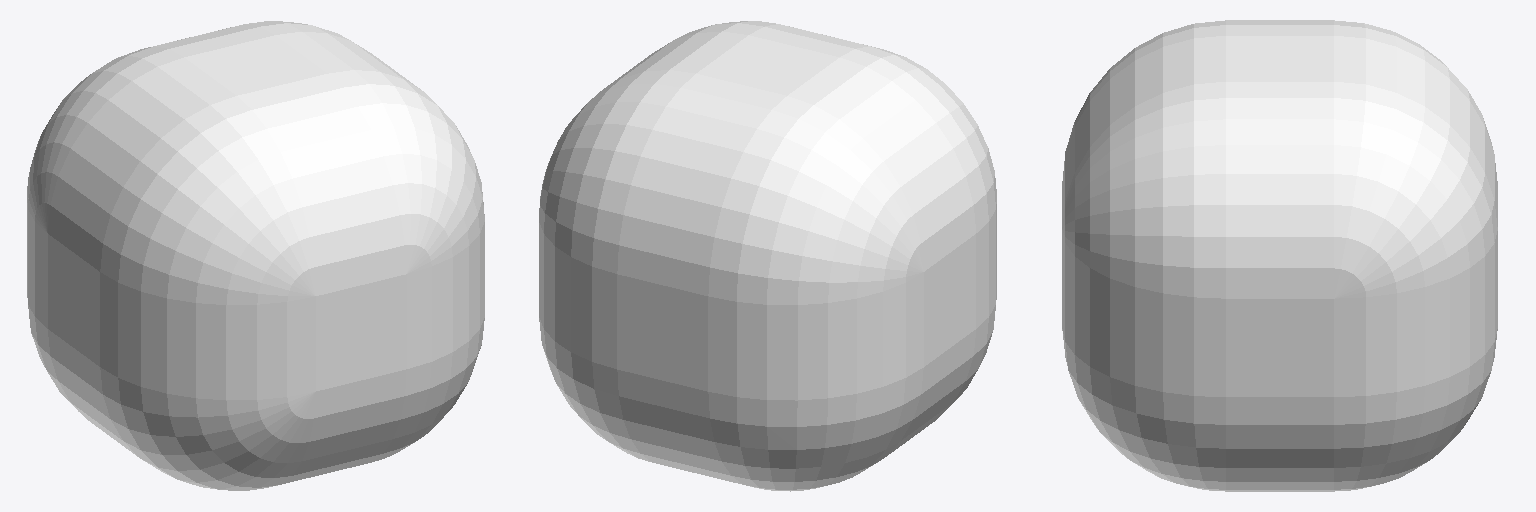
URDF robot description (urdf_robot):
<?xml version="1.0"?>
<robot name="urdf_robot">
  <link name="base_link">
    <contact>
      <rolling_friction value="0.01" />
      <spinning_friction value="0.01" />
      <lateral_friction value="10000" />
      <restitution value="0.1" />
      <damping value="100" />
      <stiffness value="5000" />
    </contact>
    <inertial>
      <origin rpy="0 0 0" xyz="0 0 0" />
      <mass value=".1" />
      <inertia ixx="1" ixy="0" ixz="0" iyy="1" iyz="0" izz="1" />
    </inertial>
    <visual>
      <origin rpy="0 0 0" xyz="0 0 0" />
      <geometry>
        <mesh filename="rounded_cube.obj" scale="1 1 1" />
        <!-- <mesh filename="textured_sphere_smooth.obj" scale="0.03 0.03 1"/>       -->
      </geometry>
      <material name="white">
        <color rgba="1 1 1 1" />
      </material>
    </visual>
  </link>
</robot>

--- What the picture shows (computed from the rendered views, not written in the file) ---
Views: 3 orthographic renders of the robot side by side, from view 1: azimuth 30°, elevation 25°; view 2: azimuth 150°, elevation 25°; view 3: azimuth 270°, elevation 25°.
Robot: urdf_robot — 1 links, 0 joints (none); root link base_link; default pose: every joint at zero.
Links seen in each view (by area): view 1: base_link; view 2: base_link; view 3: base_link.
Link boxes in pixels (box(x1,y1,x2,y2)): base_link: box(27, 21, 484, 490); base_link: box(539, 21, 996, 491); base_link: box(1062, 20, 1497, 491).
Size in the robot's own frame: 0.04 by 0.04 by 0.04 metres.
Meshes: 1 distinct files referenced, 1 mesh visuals loaded (1 OBJ).